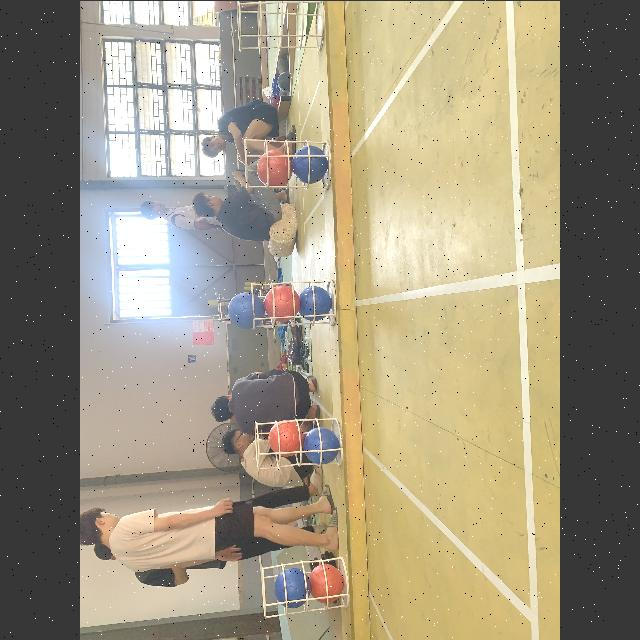B: (274, 567, 312, 607), (304, 426, 340, 464), (293, 144, 329, 182), (298, 284, 334, 320), (228, 292, 264, 328)
R: (309, 564, 345, 602), (264, 284, 300, 322), (256, 148, 292, 186), (268, 419, 304, 456)
